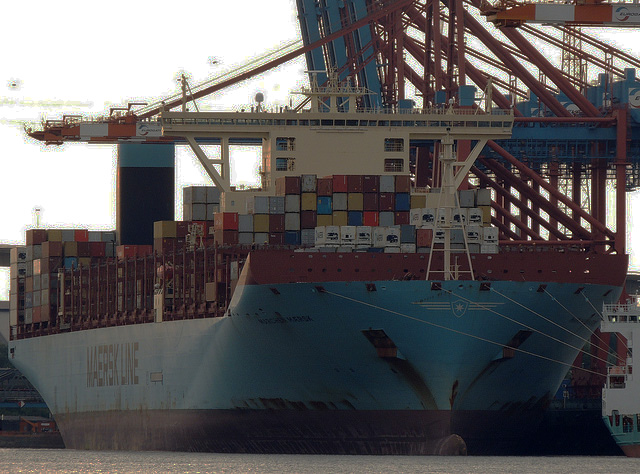container_ship: (8, 70, 622, 456)
